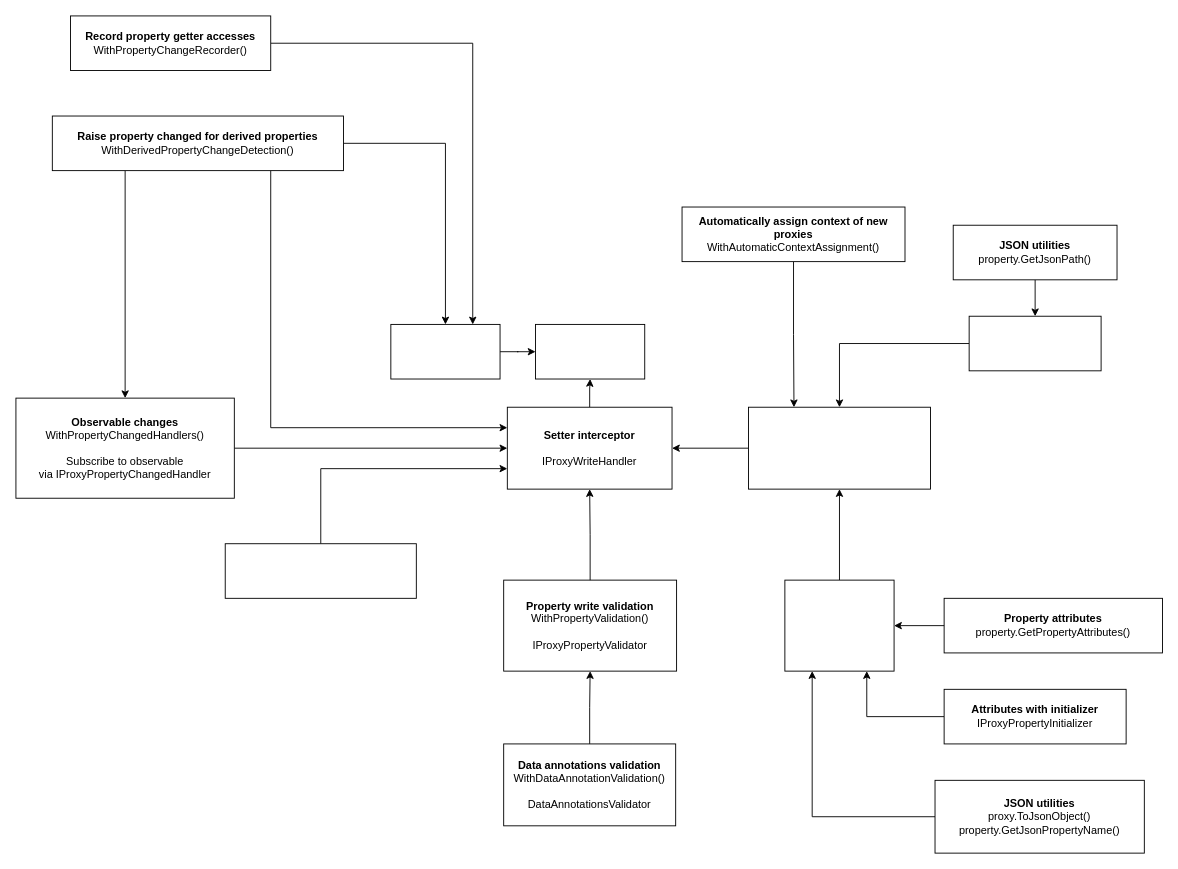
This 1178x869 diagram has some shape labels left out. The centre of each missing label's shape, as x and y in pixels:
"Assign parents WithParents()" belongs at (x=1034, y=343).
"Call setter only for new values WithEqualityCheck()" belongs at (x=320, y=570).
"Getter interceptor IProxyReadHandler" belongs at (x=445, y=351).
"IProxyContext" belongs at (x=590, y=351).
"Proxy lifecylce WithProxyLifecycle() IProxyLifecycleHandler" belongs at (x=839, y=447).
"Registry WithRegistry() IProxyRegistry" belongs at (x=839, y=625).
